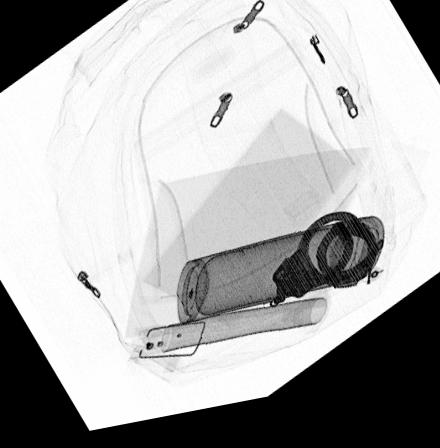HandCuffs: (269, 224, 378, 319)
